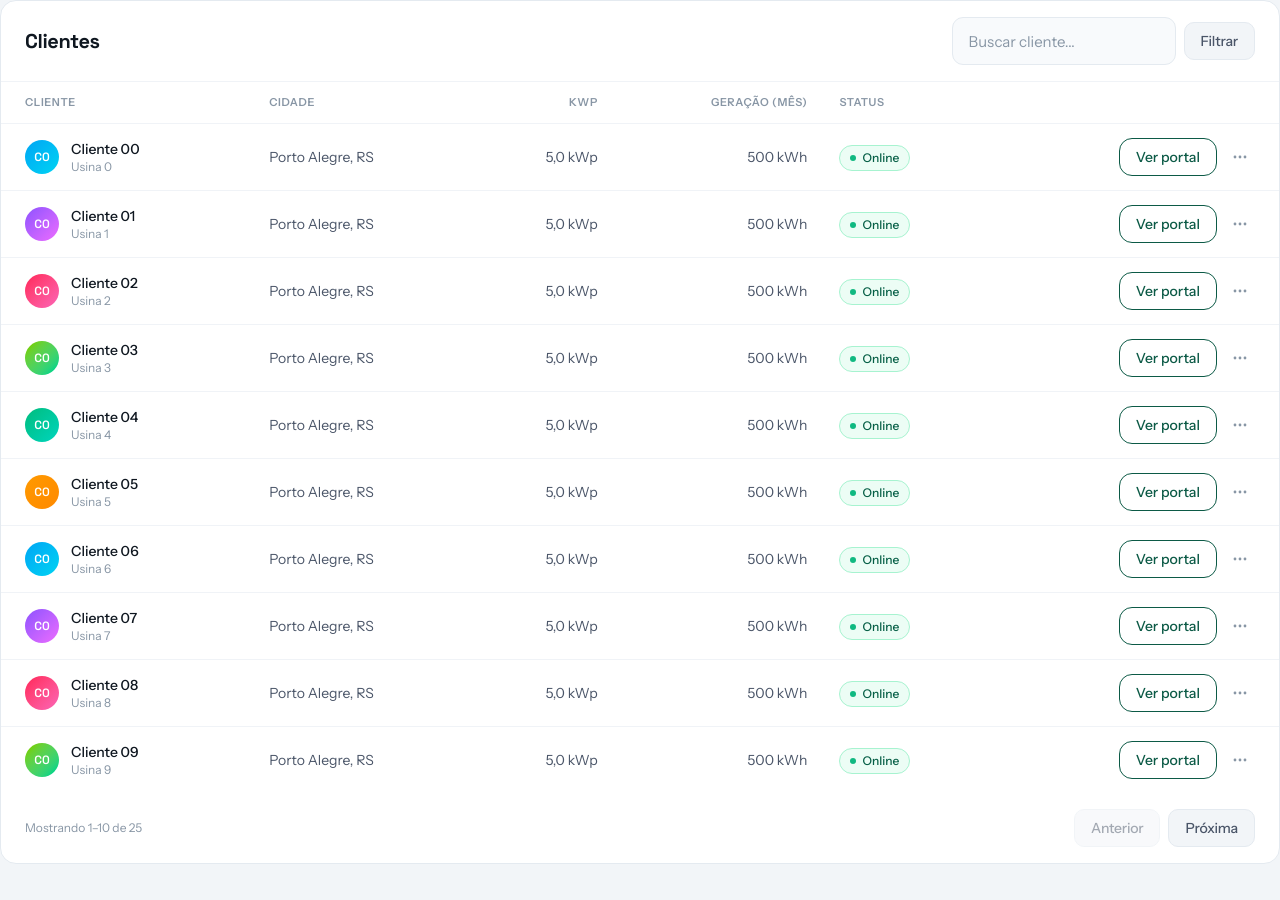
Scenario: ClientsPanel — paginação › 'Próxima' desabilita na última página (25 itens = 3 páginas)
Click the button "Próxima" at [1212, 828], box [1168,808,1255,846]
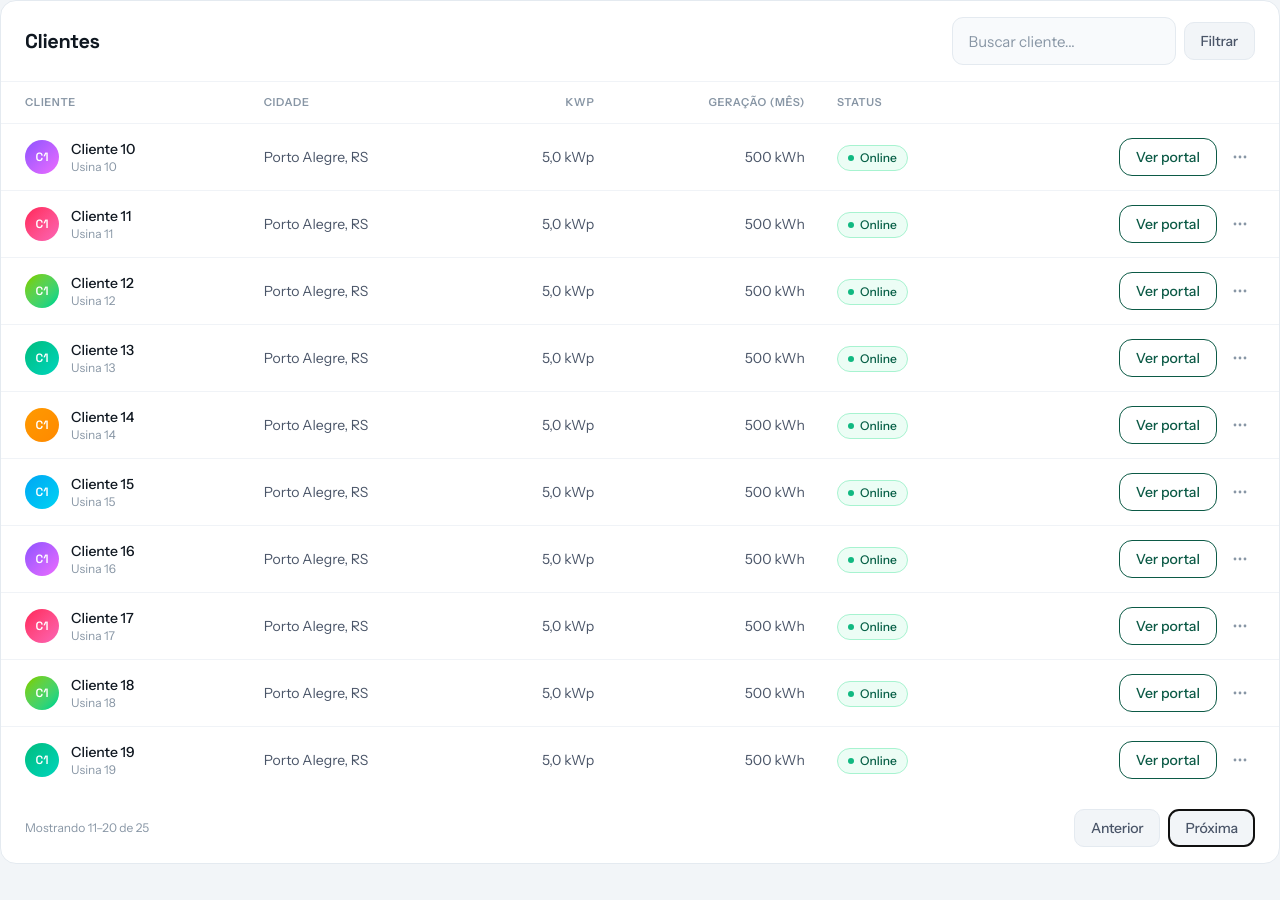
Click the button "Próxima" at [1212, 828], box [1168,808,1255,846]
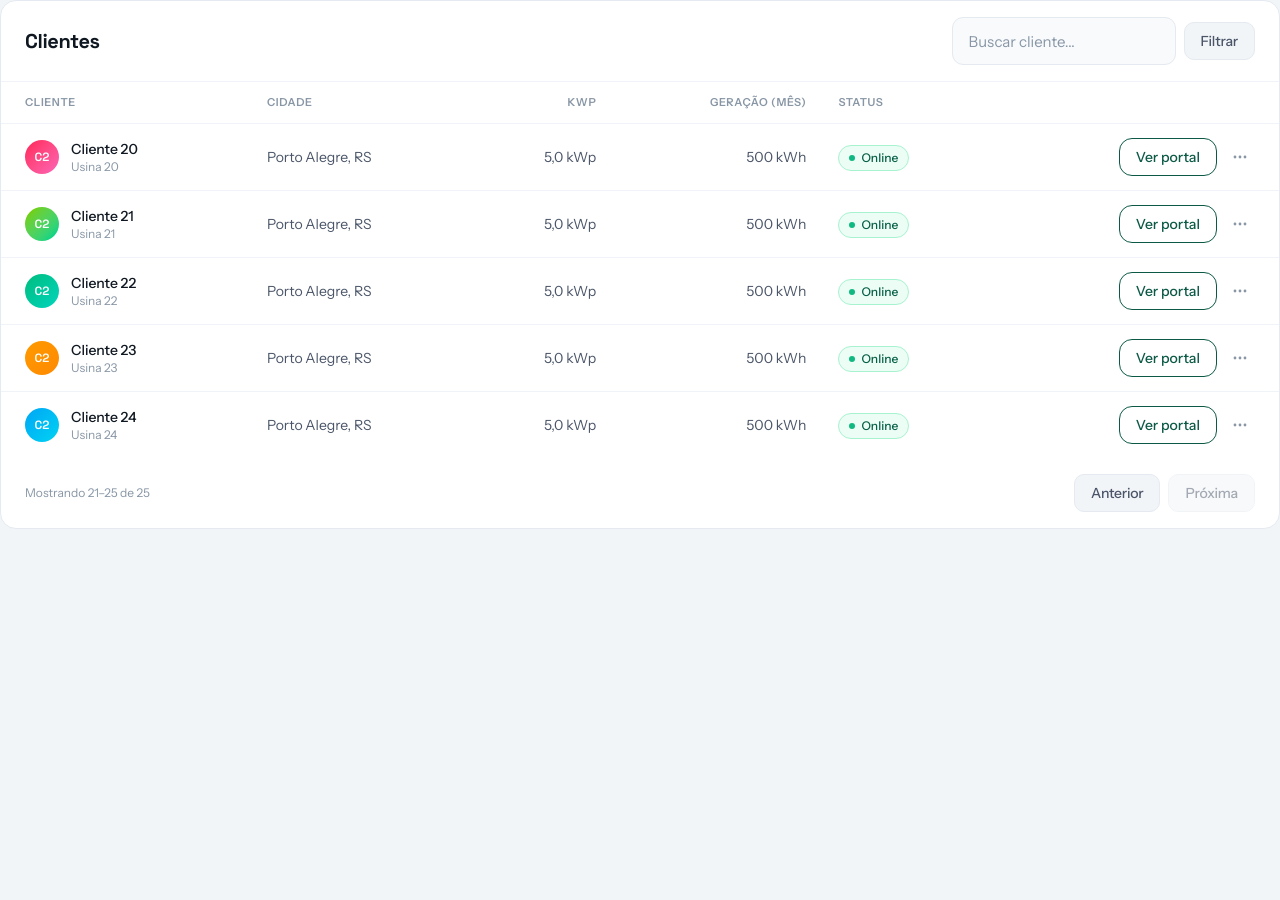
Result: the text "Mostrando 21–25 de 25" is shown at [25,484,150,500]
Result: the button "Próxima" is disabled at [1168,474,1255,512]
